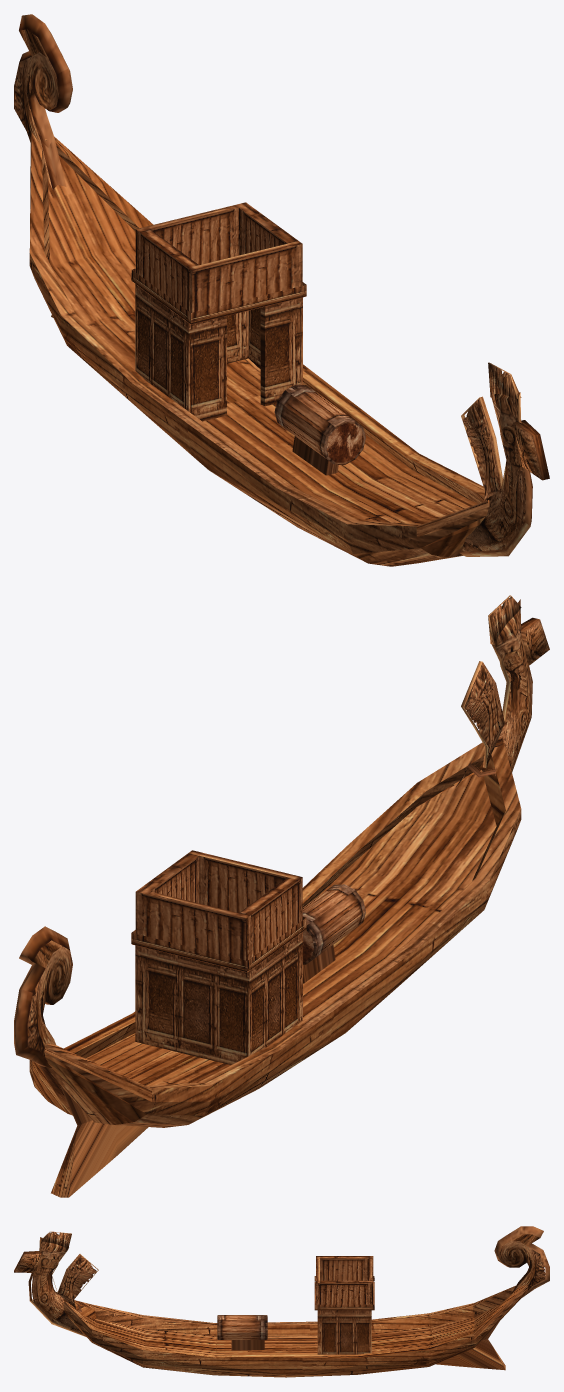
The model's file is war_ship_01.dae.
The picture shows the model from 3 angles, top to bottom: view 1: azimuth 30°, elevation 25°; view 2: azimuth 150°, elevation 25°; view 3: azimuth 270°, elevation 25°; orthographic projection. The views are drawn at different scales.
Visible parts, largest first — view 1: war_ship; view 2: war_ship; view 3: war_ship.
Boxes of the visible parts, x1,y1,x2,y2 form: war_ship: (14,14,549,566); war_ship: (14,595,549,1197); war_ship: (14,1226,549,1377).
Bounding box in the file's own units: 6.25 × 38.6 × 11.33.
